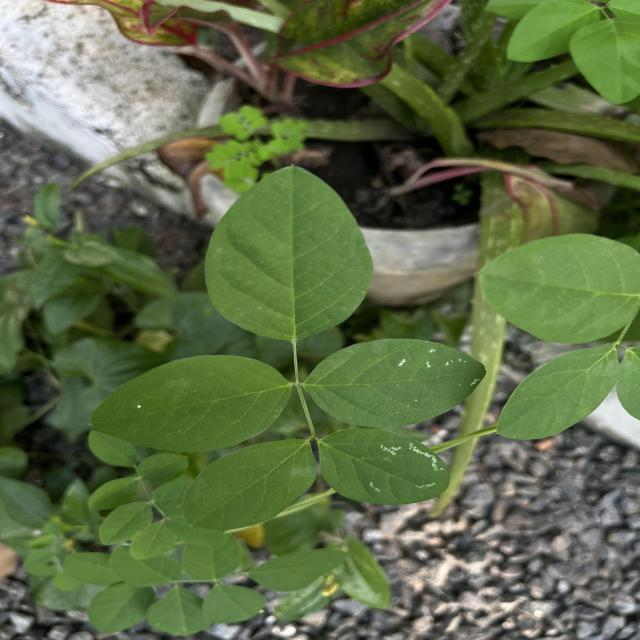Clitoria ternatea: (201, 162, 378, 344), (86, 351, 292, 455), (303, 330, 488, 430), (180, 436, 318, 532), (316, 423, 452, 507)
